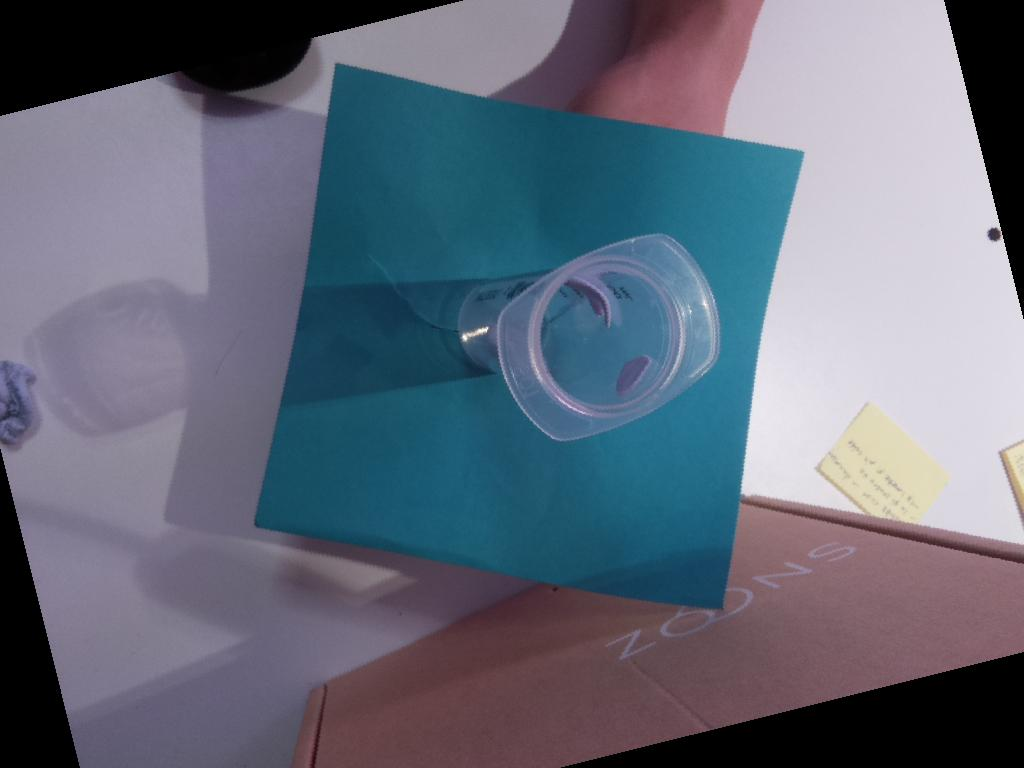dirty: (497, 233, 723, 441)
